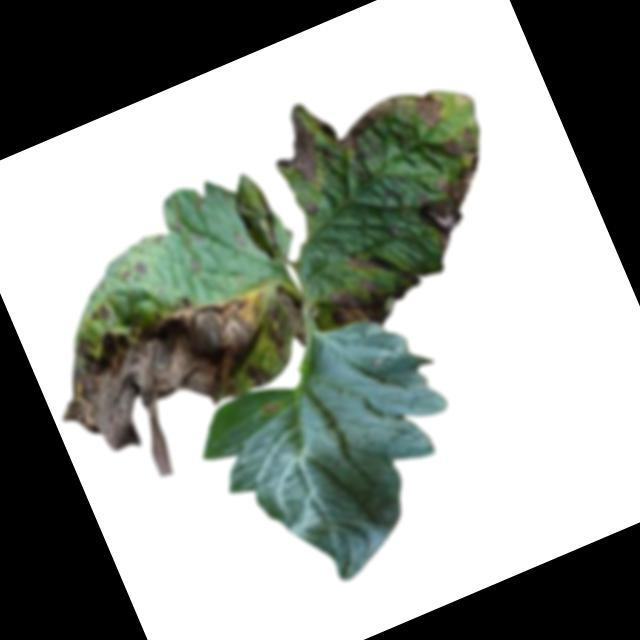Early_blight: (35, 255, 338, 501), (391, 124, 516, 260), (318, 91, 408, 155), (265, 107, 332, 191), (321, 270, 399, 341), (410, 85, 451, 132), (341, 242, 385, 278), (85, 299, 115, 327), (130, 257, 150, 278), (261, 397, 280, 415)
